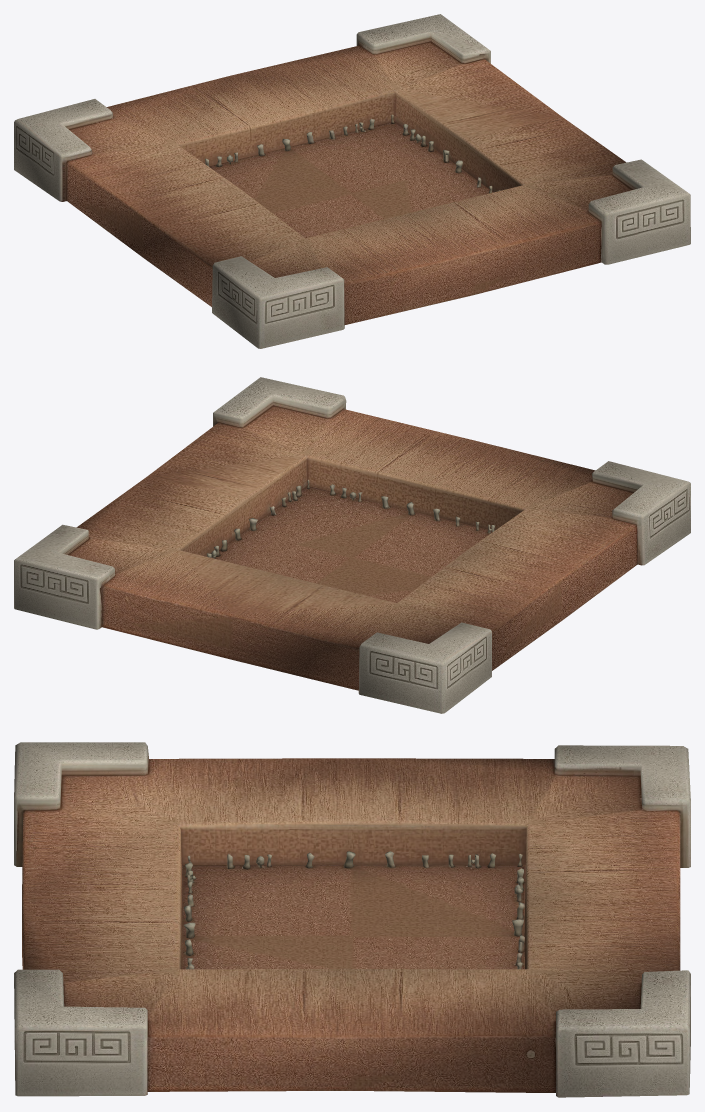
Rendered from tripo_convert_b9196895-5d70-4f28-acd9-d4737f04051d.fbx.
3 renders of one model, top to bottom at view 1: azimuth 30°, elevation 25°; view 2: azimuth 150°, elevation 25°; view 3: azimuth 270°, elevation 25°, orthographic. The views are drawn at different scales.
Parts seen in each view (by area): view 1: tripo_node_b9196895; view 2: tripo_node_b9196895; view 3: tripo_node_b9196895.
Boxes of the visible parts, x1=… form: tripo_node_b9196895: x1=14, y1=14, x2=690, y2=348; tripo_node_b9196895: x1=14, y1=377, x2=690, y2=713; tripo_node_b9196895: x1=14, y1=742, x2=690, y2=1097.
Size of the model in its own units: 0.998 by 0.1855 by 0.998.
Materials: 1 (1 with a texture image).
